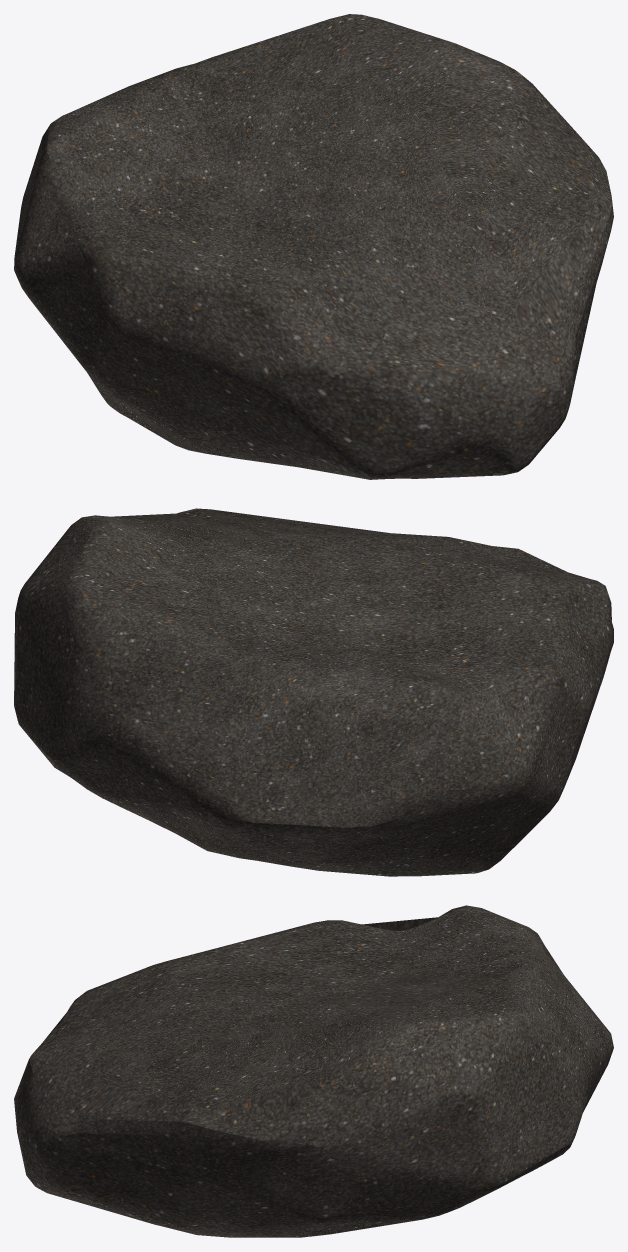
Rendered from rock_1.fbx.
3 renders of one model, top to bottom at view 1: azimuth 30°, elevation 25°; view 2: azimuth 150°, elevation 25°; view 3: azimuth 270°, elevation 25°, orthographic. The views are drawn at different scales.
Parts seen in each view (by area): view 1: pPlatonic15; view 2: pPlatonic15; view 3: pPlatonic15.
Part boxes in pixels (x1,y1,x2,y2): pPlatonic15: [14, 14, 613, 479]; pPlatonic15: [14, 508, 613, 876]; pPlatonic15: [14, 905, 613, 1237].
Size of the model in its own units: 2.85 by 1.59 by 3.28.
Materials: 1 (1 with a texture image).
